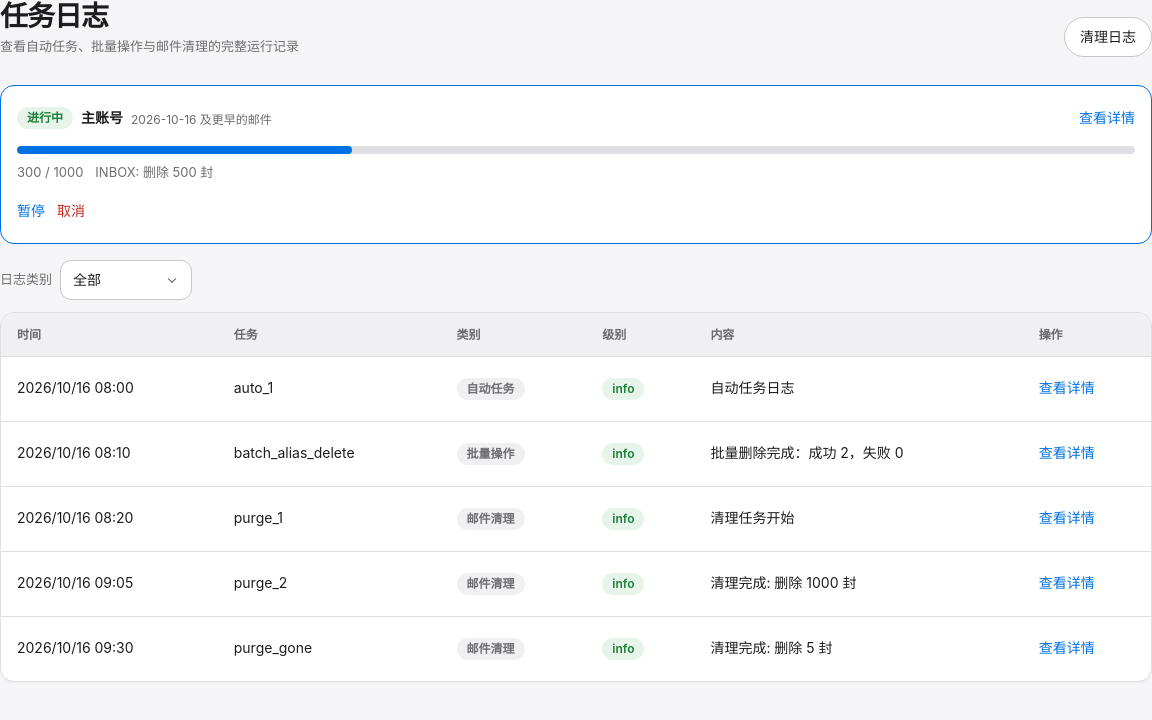
it: LogsPage 清理任务与类别 › 清理任务日志行的「查看详情」打开「清理任务详情」: 任务信息 + 该任务日志
The image size is (1152, 720).
Expected: the text "清理完成: 删除 1000 封" is shown, [694,552,1023,616]
Click the button "查看详情" in the row of "2026/10/16 09:05". click: (1067, 584)
box: [1039,564,1095,604]
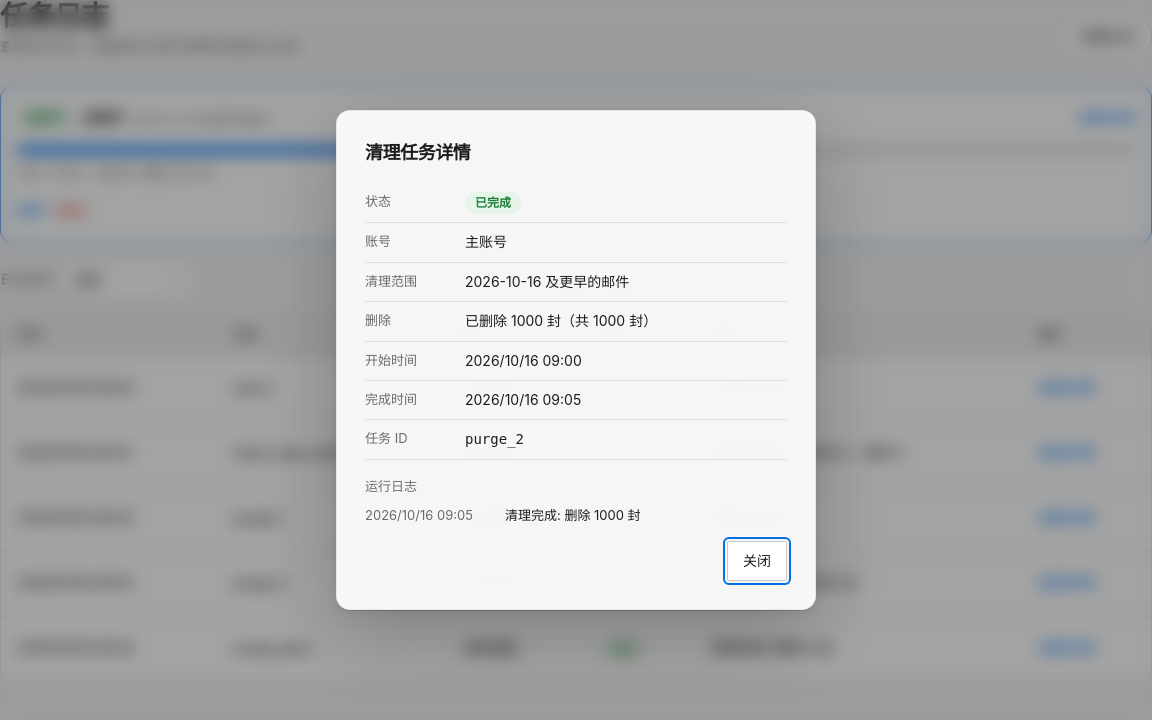
Now the text "已完成" is shown, box [465,192,521,214]
Now the text "主账号" is shown, box [465,233,507,250]
Now the text "2026-10-16 及更早的邮件" is shown, box [465,273,629,290]
